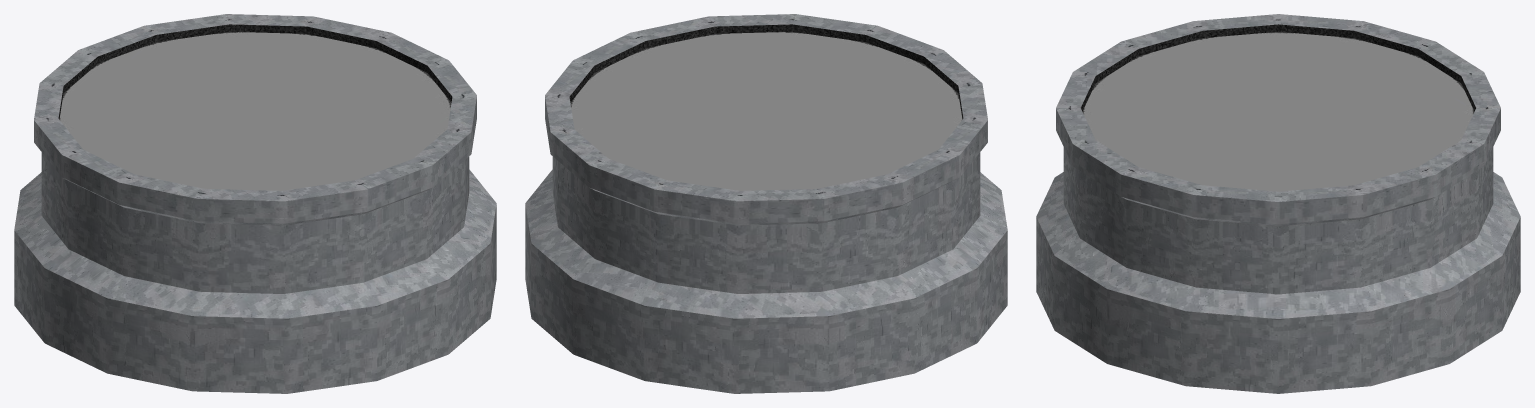
Rendered from Ventilation_1.fbx.
3 views of the same model, side by side, from view 1: azimuth 30°, elevation 25°; view 2: azimuth 150°, elevation 25°; view 3: azimuth 270°, elevation 25° (orthographic).
Visible parts, largest first — view 1: Ventilation_lp; view 2: Ventilation_lp; view 3: Ventilation_lp.
Part boxes in pixels (x1=…): Ventilation_lp: x1=14, y1=14, x2=496, y2=393; Ventilation_lp: x1=525, y1=14, x2=1007, y2=393; Ventilation_lp: x1=1036, y1=14, x2=1520, y2=393.
Size of the model in its own units: 600 by 251 by 600.
1 material, 1 textured.
